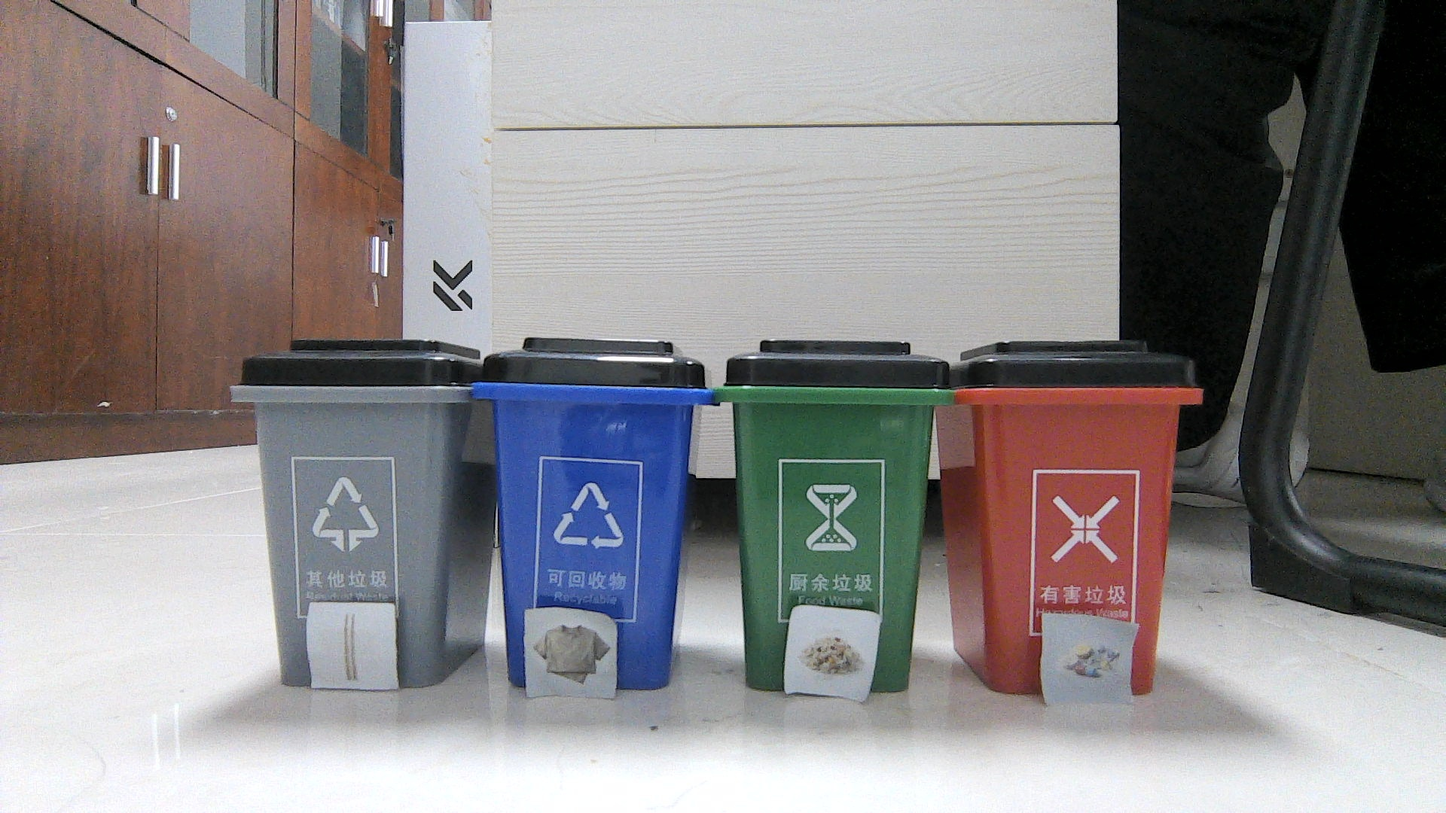food_trash: (791, 611, 872, 692)
other_trash: (311, 606, 390, 685), (1046, 620, 1127, 697)
recyclable_trash: (530, 610, 613, 694)
